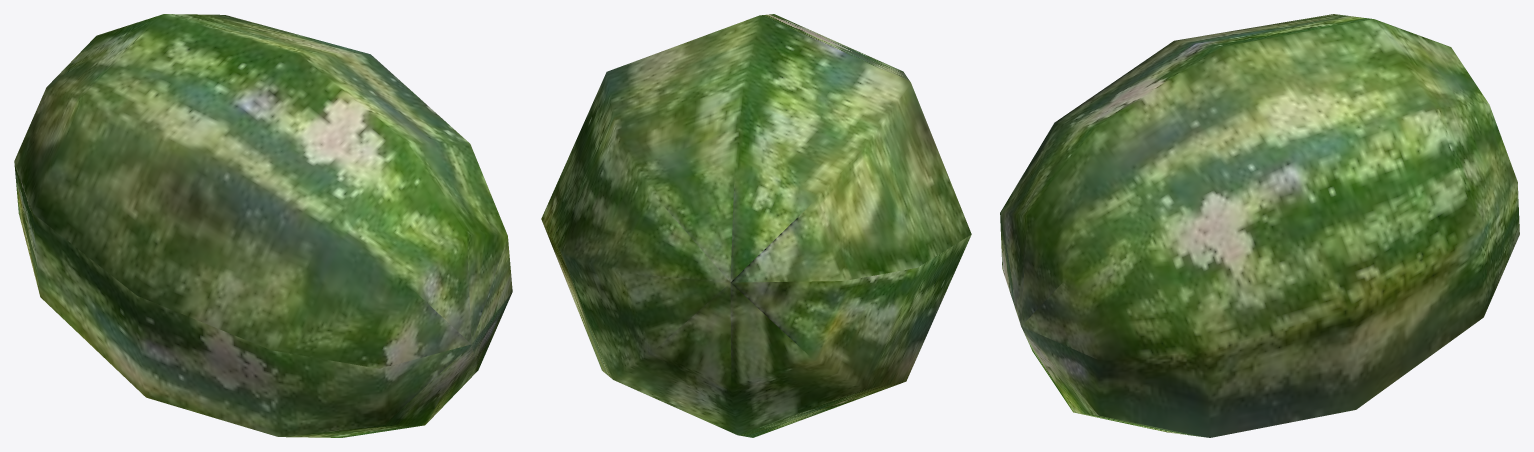
3 renders of one model, left to right at view 1: azimuth 30°, elevation 25°; view 2: azimuth 150°, elevation 25°; view 3: azimuth 270°, elevation 25°, orthographic. The views are drawn at different scales.
Visible parts, largest first — view 1: Watermelon002_Foods_0; view 2: Watermelon002_Foods_0; view 3: Watermelon002_Foods_0.
Boxes of the visible parts, bbox=[...] form: Watermelon002_Foods_0: bbox=[14, 14, 512, 437]; Watermelon002_Foods_0: bbox=[541, 14, 971, 437]; Watermelon002_Foods_0: bbox=[1000, 14, 1519, 437].
Bounding box in the file's own units: 0.4006 × 0.3718 × 0.4654.
Materials: 1 (1 with a texture image).
